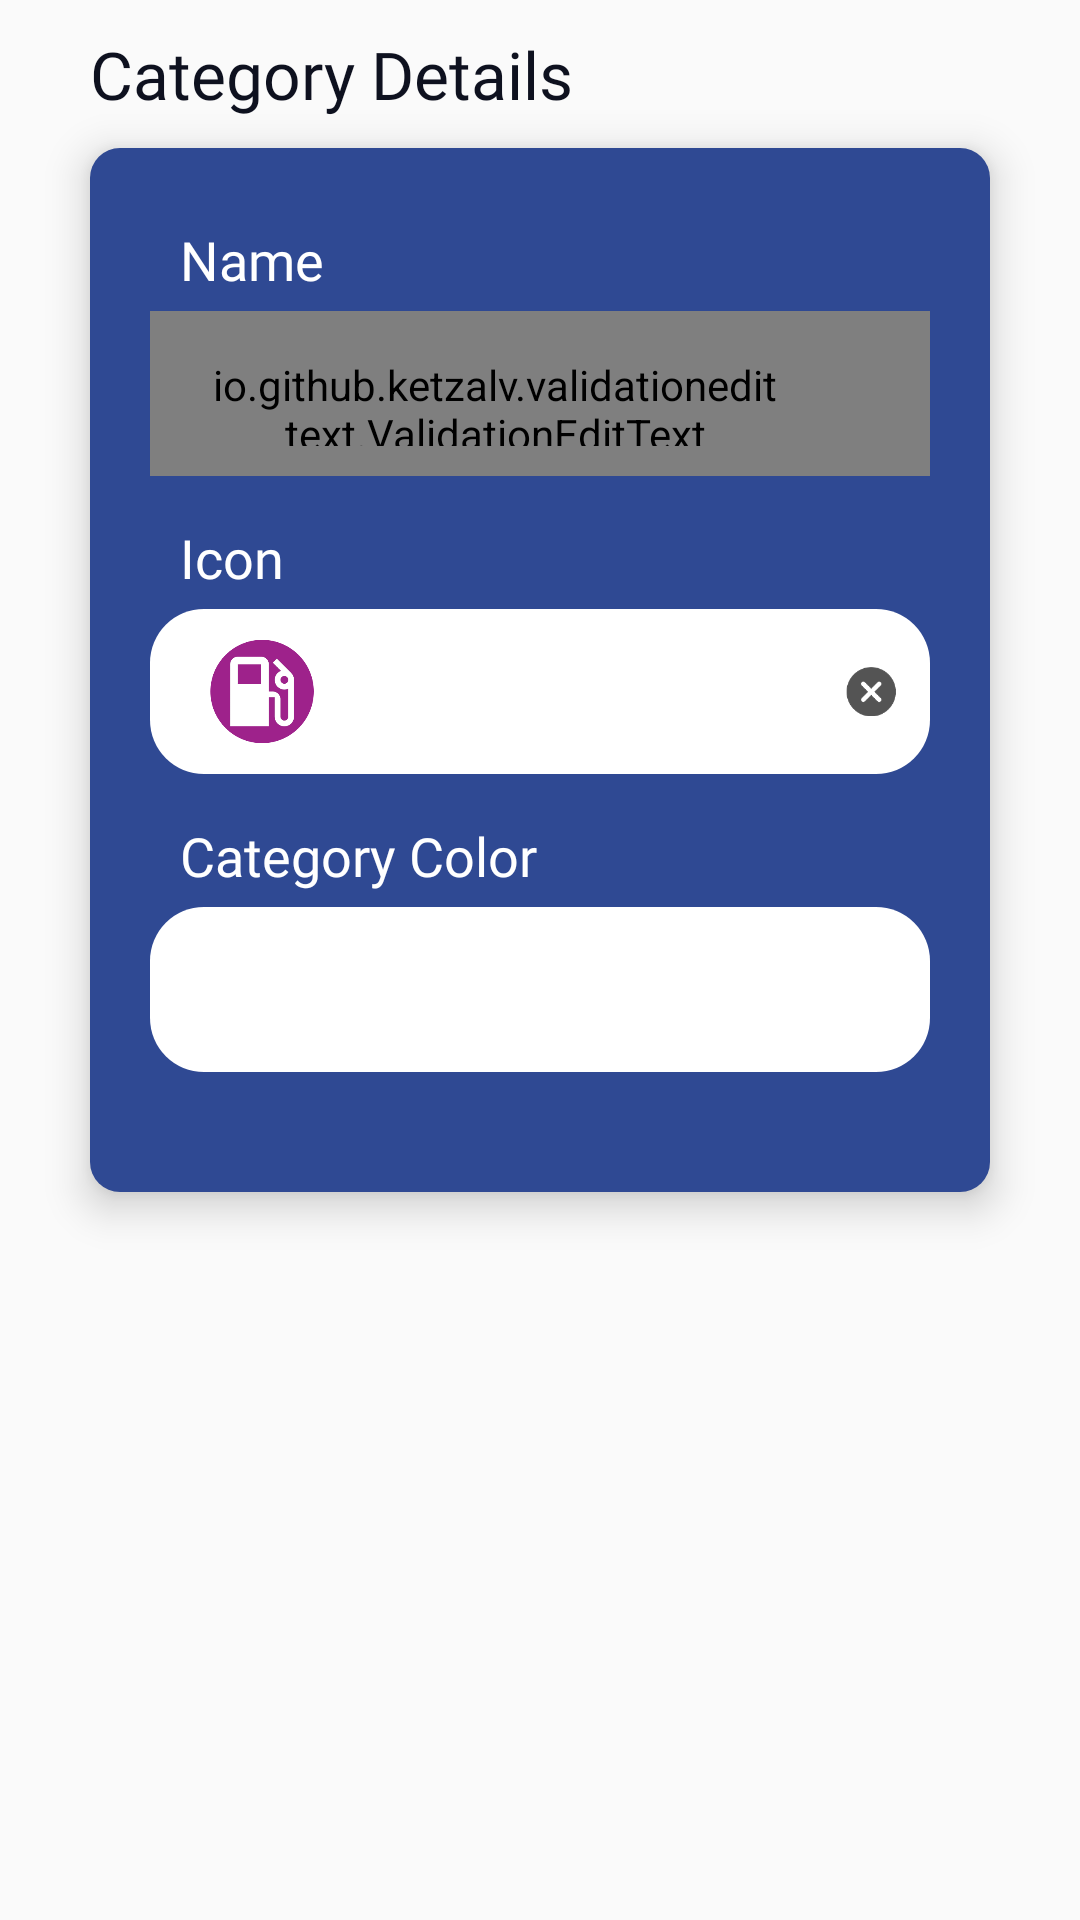

Icons on this 1080*1920 Android screen, each with the point to tap as (x,y):
close: (871,691)
fuel: (262,691)
